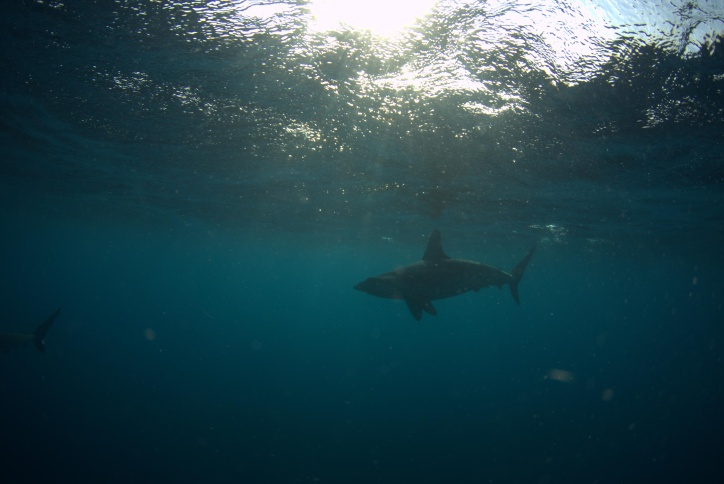Hammer: (347, 225, 544, 323)
